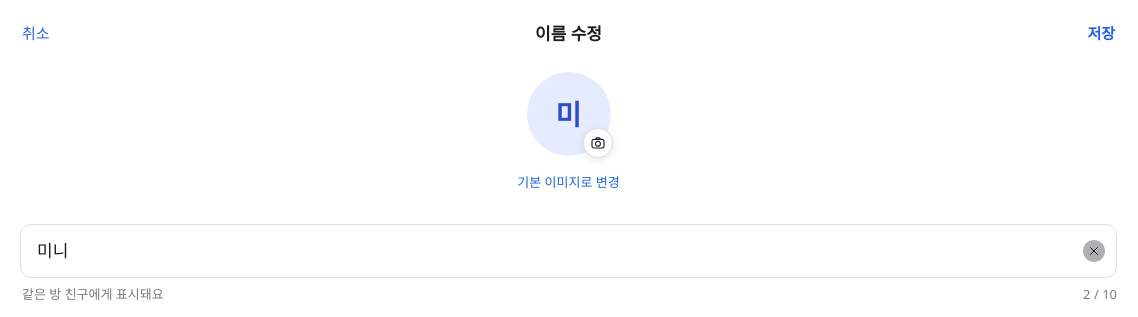
Scenario: ProfileEditPage › 10자를 넘겨 입력할 수 없다
The width and height of the screenshot is (1138, 317).
Replace the text in the field named "이름" with "가나다라마바사아자차카타" at (568, 251), box [20,224,1117,278]
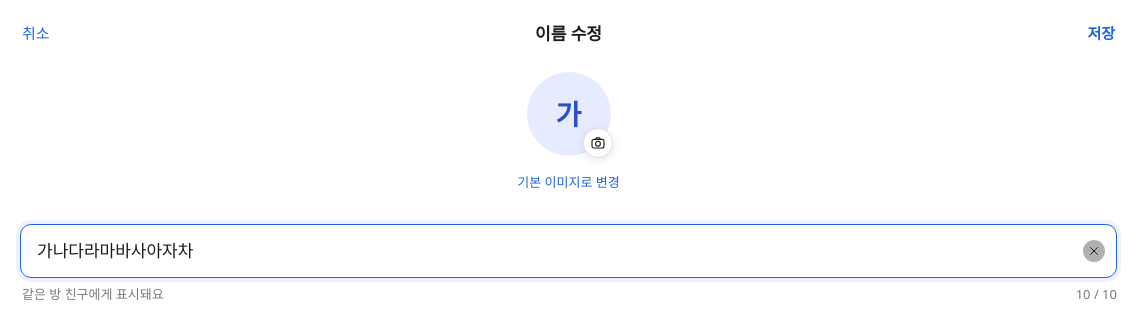
Expected: the field named "이름" holds "가나다라마바사아자차", [20,224,1117,278]
